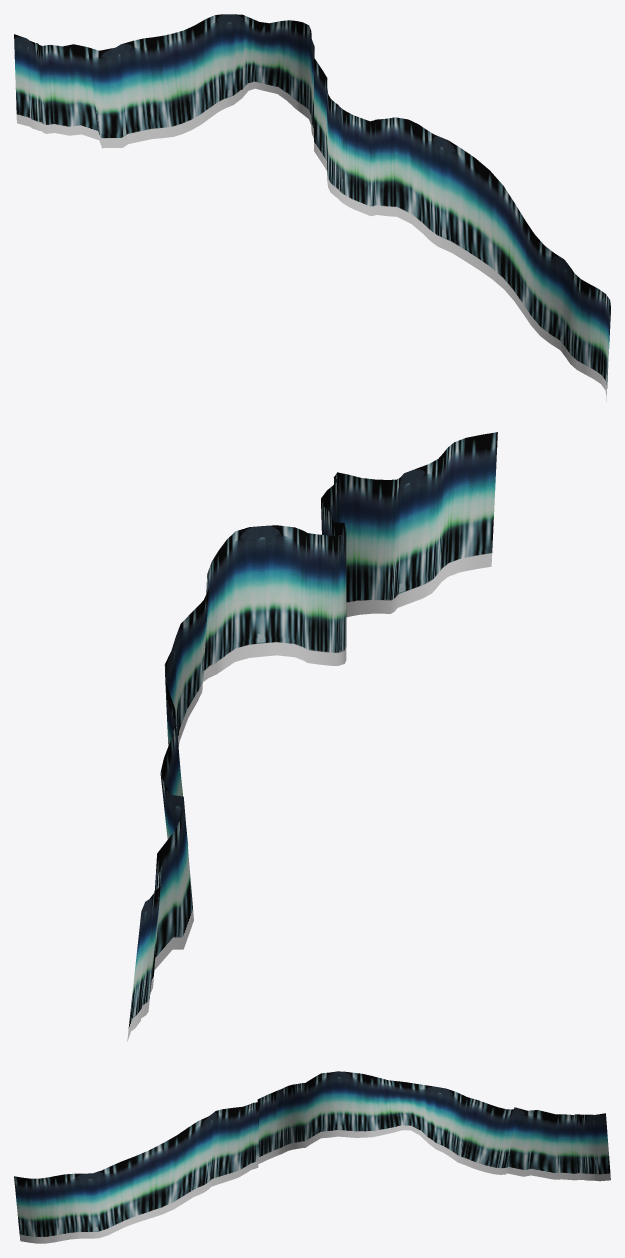
Rendered from env_northlight_3.FBX.
3 renders of one model, top to bottom at view 1: azimuth 30°, elevation 25°; view 2: azimuth 150°, elevation 25°; view 3: azimuth 270°, elevation 25°, orthographic. The views are drawn at different scales.
Visible parts, largest first — view 1: Cylinder001; view 2: Cylinder001; view 3: Cylinder001.
Part boxes in pixels (x1,y1,x2,y2): Cylinder001: (14,14,610,401); Cylinder001: (127,432,497,1041); Cylinder001: (14,1071,610,1243).
Size of the model in its own units: 10312 by 11617 by 42075.
1 material, 1 textured.
